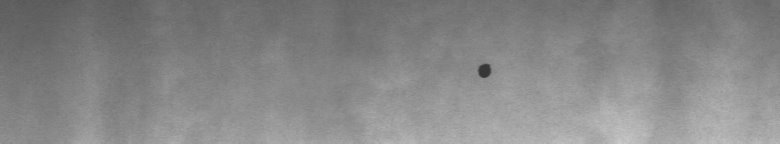fi: (472, 56, 497, 84)
